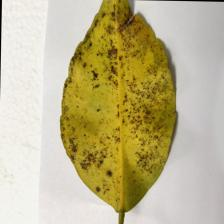canker: (60, 20, 168, 175)
